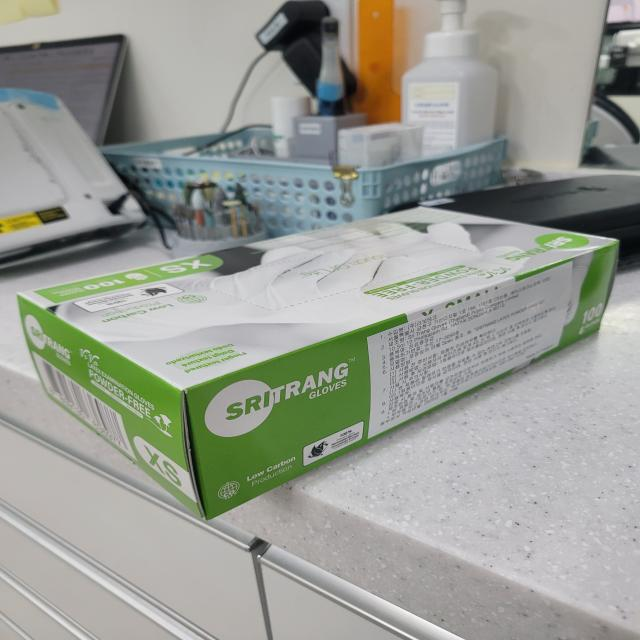glove: (15, 205, 637, 521)
